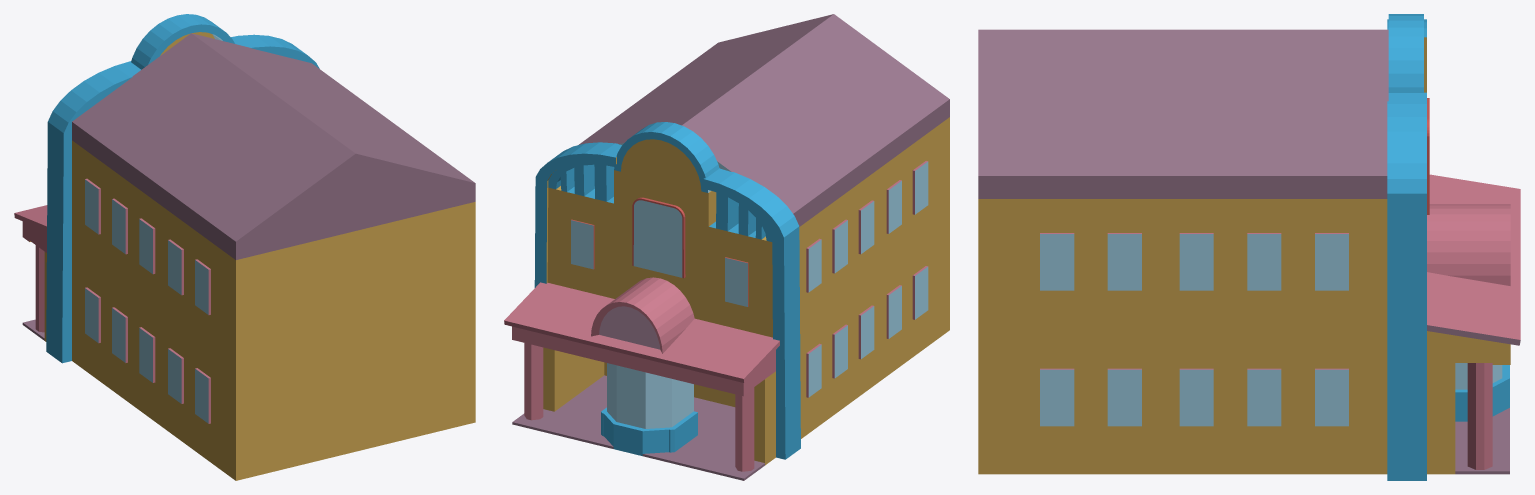
The model's file is edifci_2.fbx.
3 renders of one model, left to right at view 1: azimuth 30°, elevation 25°; view 2: azimuth 150°, elevation 25°; view 3: azimuth 270°, elevation 25°, orthographic. The views are drawn at different scales.
Visible parts, largest first — view 1: Cube.017, Cube.028, Cylinder.029, Cylinder.026, Cube.019, Cylinder.030, Cube.022, Cube.030, Cube.035, Cube.029, Cube.031, Cube.032 (+6 smaller); view 2: Cube.017, Cube.028, Cube.024, Cylinder.029, Cube.018, Cube.025, Cylinder.024, Cylinder.026, Cylinder.025, Cube.021, Cylinder.030, Cube.019 (+17 smaller); view 3: Cube.017, Cube.028, Cylinder.030, Cube.020, Cube.024, Cylinder.024, Cylinder.026, Cube.023, Cube.044, Cube.045, Cube.047, Cube.048 (+8 smaller).
Part boxes in pixels (x1,y1,x2,y2): Cube.017: (29,140,475,480); Cube.028: (72,33,475,259); Cylinder.029: (46,61,140,363); Cylinder.026: (131,14,234,69); Cube.019: (44,252,96,378); Cylinder.030: (231,34,319,68); Cube.022: (35,245,44,332); Cube.030: (139,218,155,274); Cube.035: (139,327,155,382); Cube.029: (112,198,127,254); Cube.031: (85,178,100,234); Cube.032: (195,259,210,314); Cube.017: (547,117,949,428); Cube.028: (579,14,949,226); Cube.024: (504,282,779,382); Cylinder.029: (703,168,800,459); Cube.018: (601,363,697,455); Cube.025: (512,375,764,480); Cylinder.024: (591,277,694,353); Cylinder.026: (614,122,719,192); Cylinder.025: (632,197,685,278); Cube.021: (512,326,750,396); Cylinder.030: (534,142,621,287); Cube.019: (754,343,814,465); Cube.017: (978,199,1492,474); Cube.028: (978,29,1388,198); Cylinder.030: (1387,92,1426,480); Cube.020: (1326,363,1455,474); Cube.024: (1427,174,1520,345); Cylinder.024: (1427,204,1510,285); Cylinder.026: (1388,14,1423,92); Cube.023: (1467,363,1492,469); Cube.044: (1247,368,1281,426); Cube.045: (1179,368,1213,426); Cube.047: (1040,368,1074,426); Cube.048: (1107,368,1141,426).
Bounding box in the file's own units: 609 × 683 × 882.
